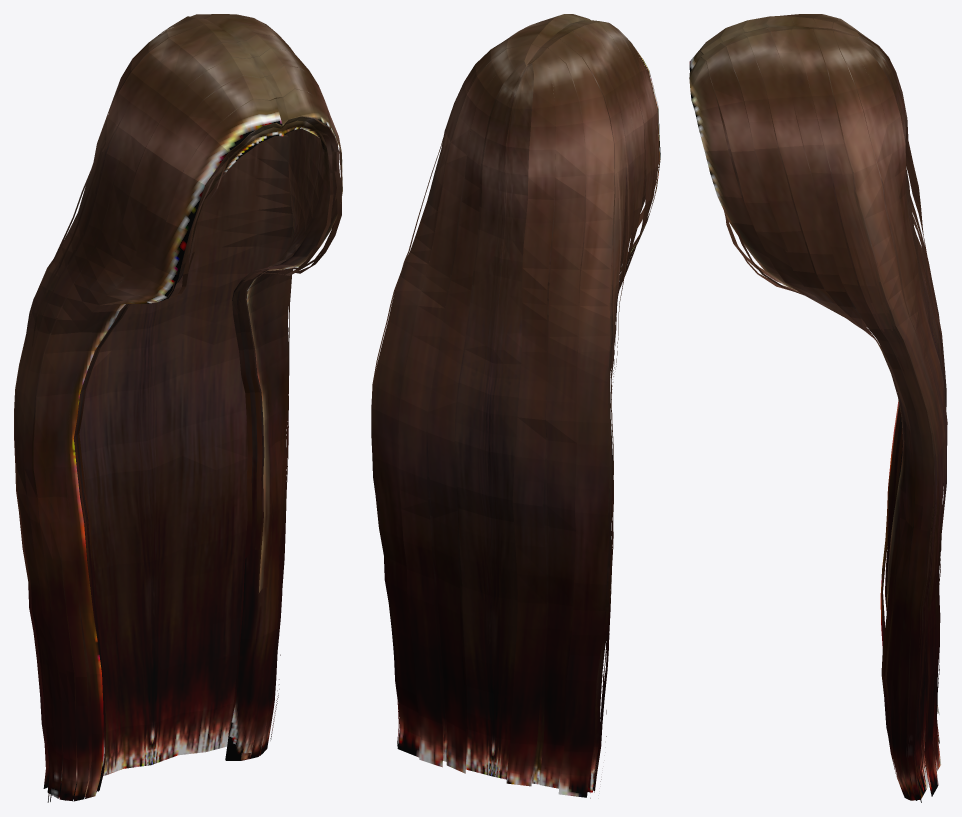
File: long-hair.obj
The picture shows the model from 3 angles, left to right: view 1: azimuth 30°, elevation 25°; view 2: azimuth 150°, elevation 25°; view 3: azimuth 270°, elevation 25°; orthographic projection. The views are drawn at different scales.
Parts seen in each view (by area): view 1: long-hair; view 2: long-hair; view 3: long-hair.
Boxes of the visible parts, bbox=[...] form: long-hair: bbox=[14, 14, 342, 802]; long-hair: bbox=[371, 14, 660, 798]; long-hair: bbox=[689, 14, 947, 802].
Bounding box in the file's own units: 25.41 × 71.11 × 22.55.
1 material, 1 textured.
